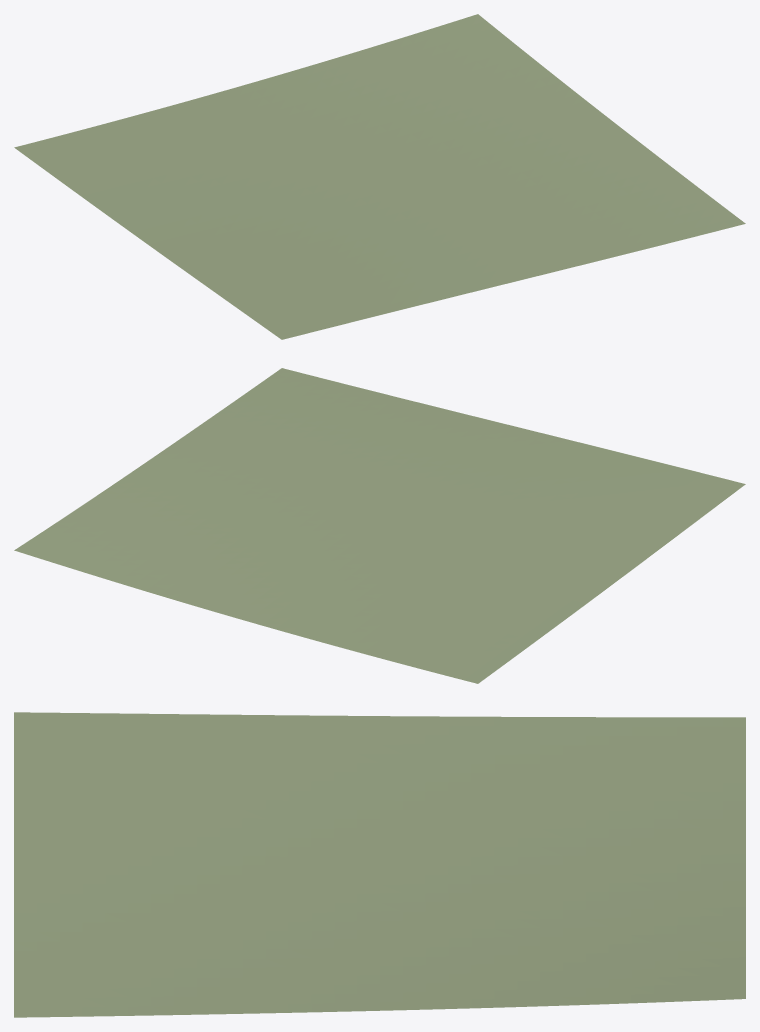
Rendered from desert-22-12.glb.
The picture shows the model from 3 angles, top to bottom: view 1: azimuth 30°, elevation 25°; view 2: azimuth 150°, elevation 25°; view 3: azimuth 270°, elevation 25°; orthographic projection. The views are drawn at different scales.
Visible parts, largest first — view 1: desert-22-12; view 2: desert-22-12; view 3: desert-22-12.
Part boxes in pixels (bbox=[...]): desert-22-12: bbox=[14, 14, 745, 339]; desert-22-12: bbox=[14, 368, 745, 683]; desert-22-12: bbox=[14, 712, 745, 1017].
Size of the model in its own units: 512 by 21.39 by 512.
